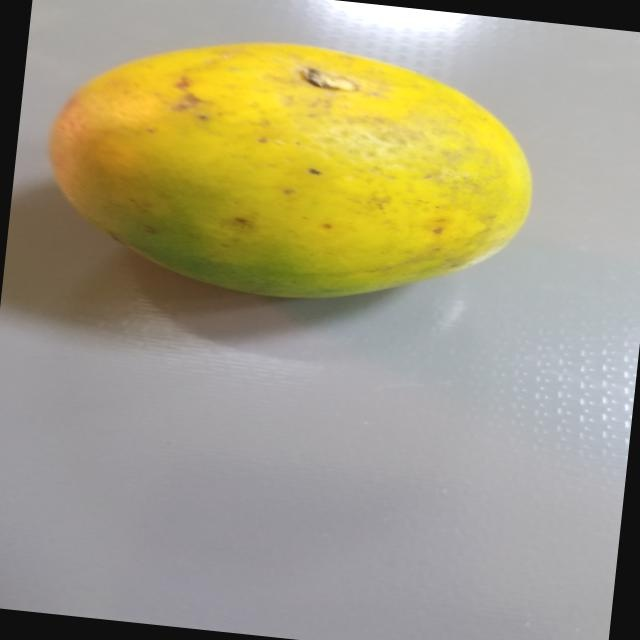agrume: (36, 16, 550, 324)
